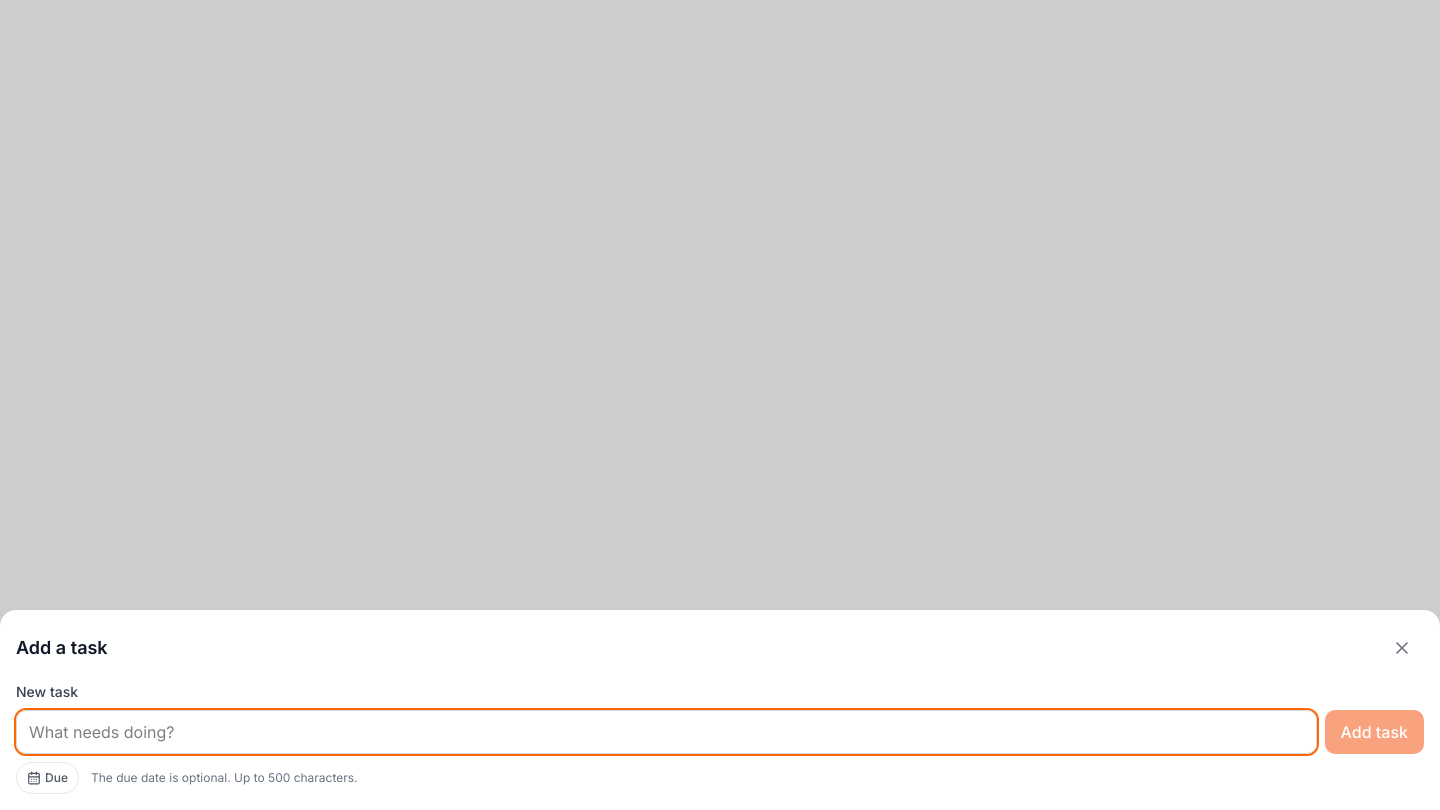
Test: 2: the bottom sheet keeps text typed during a save › stays open with the newer text when more was typed while adding
This screenshot has width=1440, height=810.
Type "First" into the field labelled "New task". click: (666, 732)
box: [16,710,1316,754]
Then press Enter
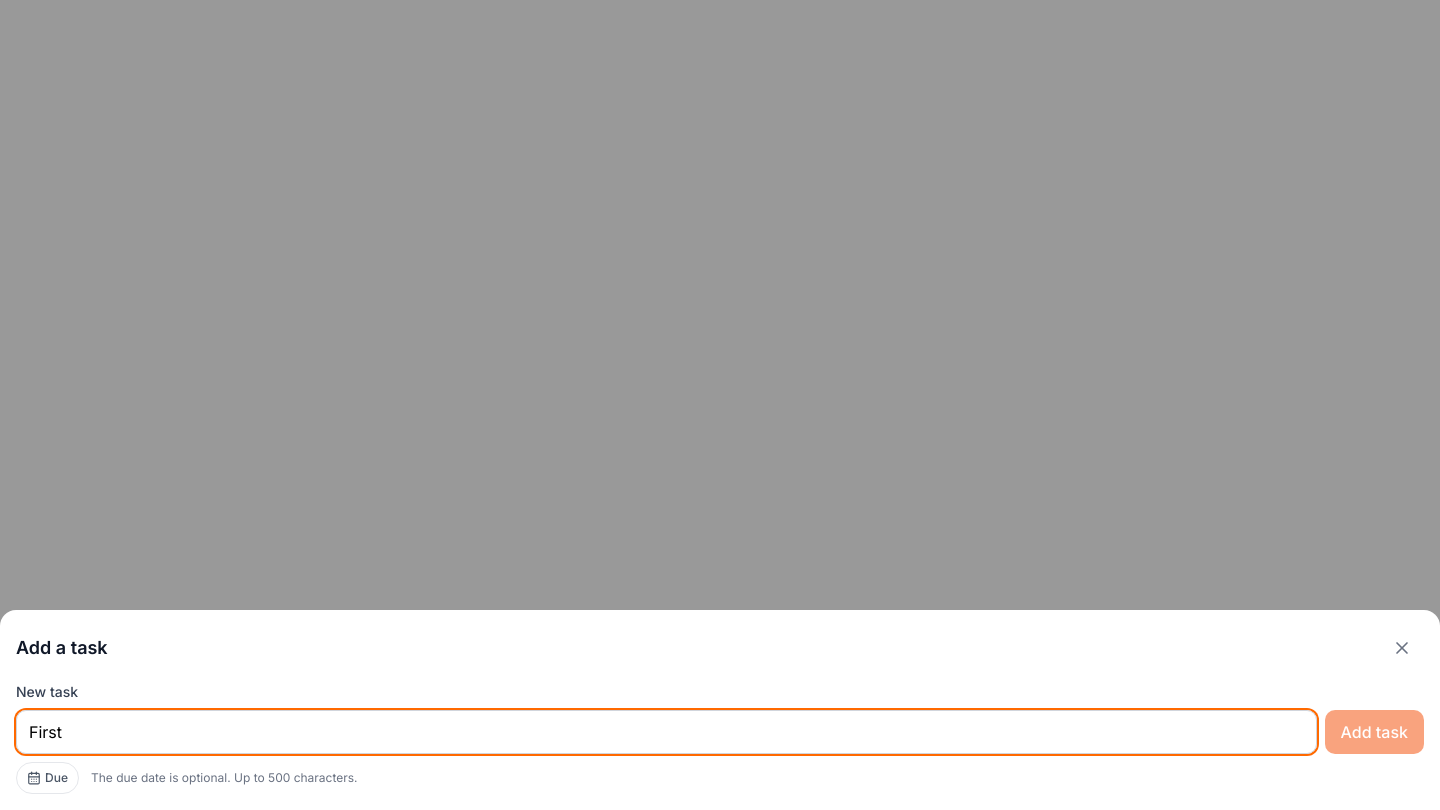
Type "Second" into the field labelled "New task". click: (666, 732)
box: [16,710,1316,754]
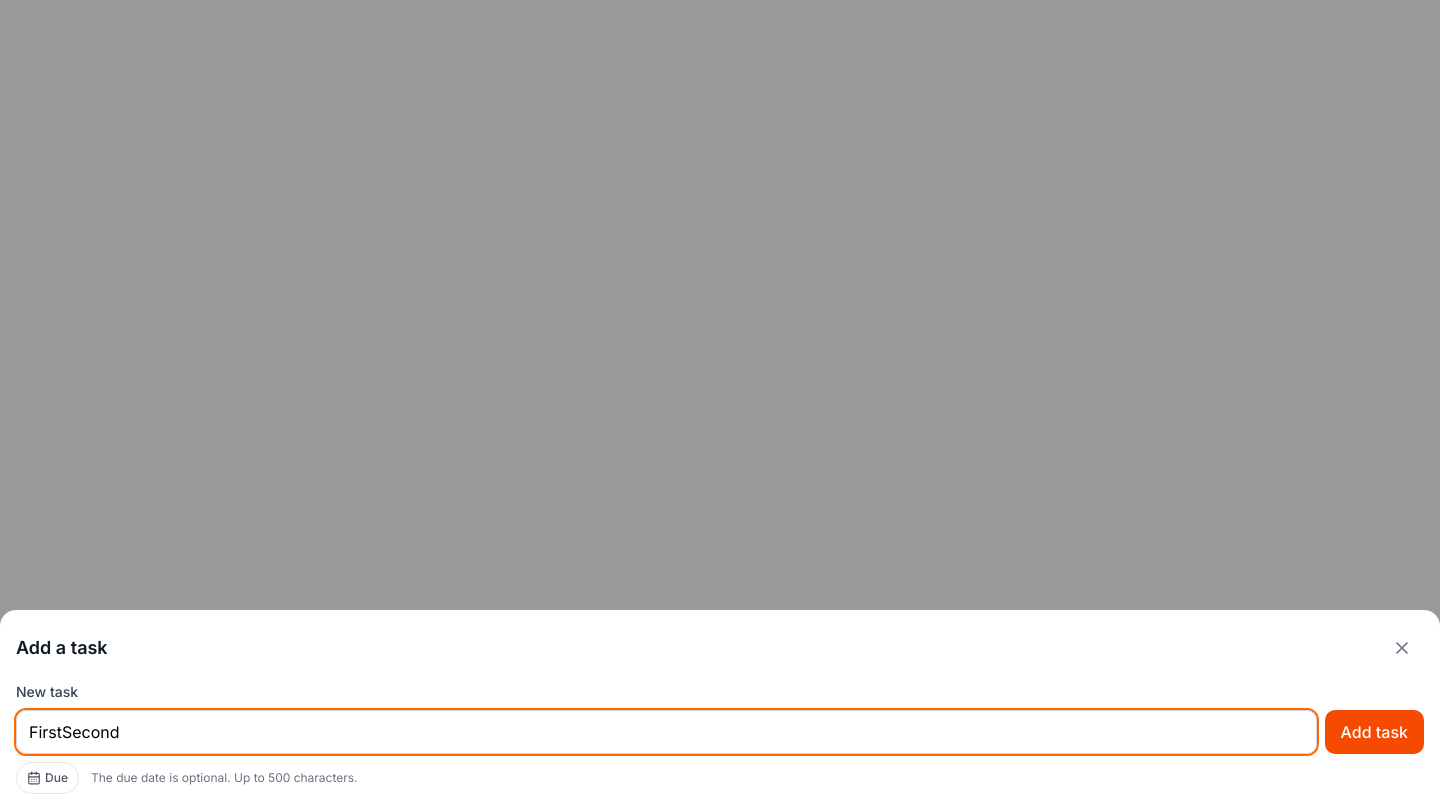
Now the field labelled "New task" holds "FirstSecond", box [16,710,1316,754]
